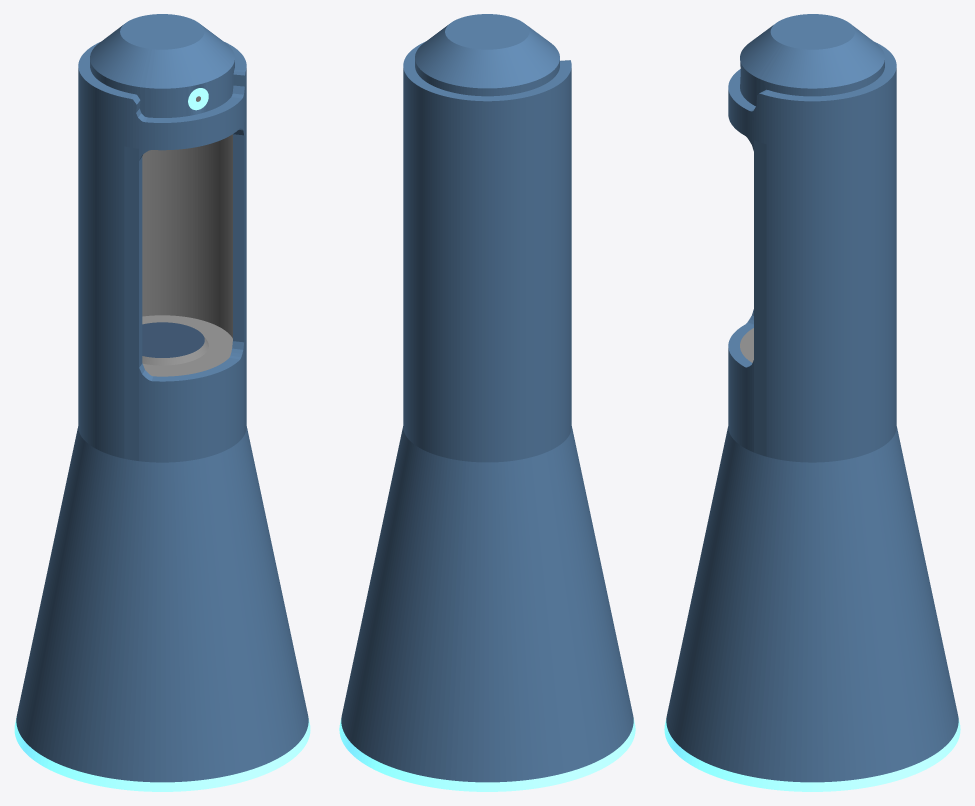
The model's file is recharge_station.glb.
3 views of the same model, side by side, from view 1: azimuth 30°, elevation 25°; view 2: azimuth 150°, elevation 25°; view 3: azimuth 270°, elevation 25° (orthographic).
Parts seen in each view (by area): view 1: Cylinder.001; view 2: Cylinder.001; view 3: Cylinder.001.
Boxes of the visible parts, x1,y1,x2,y2 form: Cylinder.001: (14, 14, 310, 791); Cylinder.001: (339, 14, 635, 791); Cylinder.001: (664, 14, 960, 791).
Bounding box in the file's own units: 0.684 × 1.78 × 0.684.
